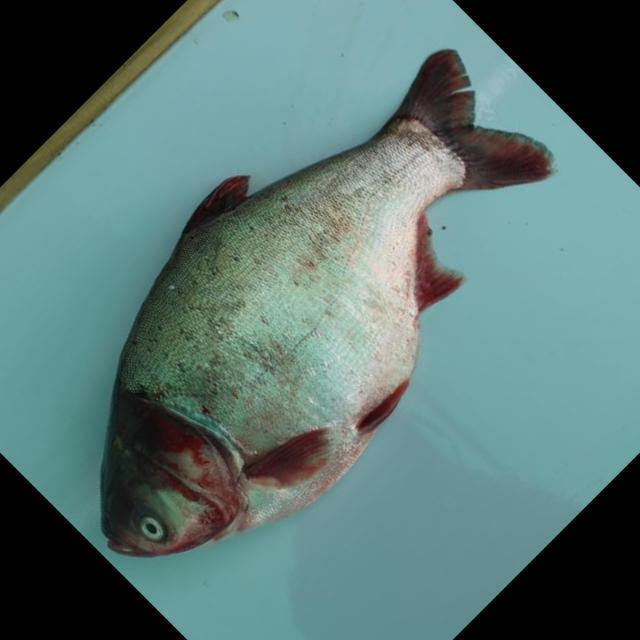SilverCarp: (63, 53, 554, 567)
